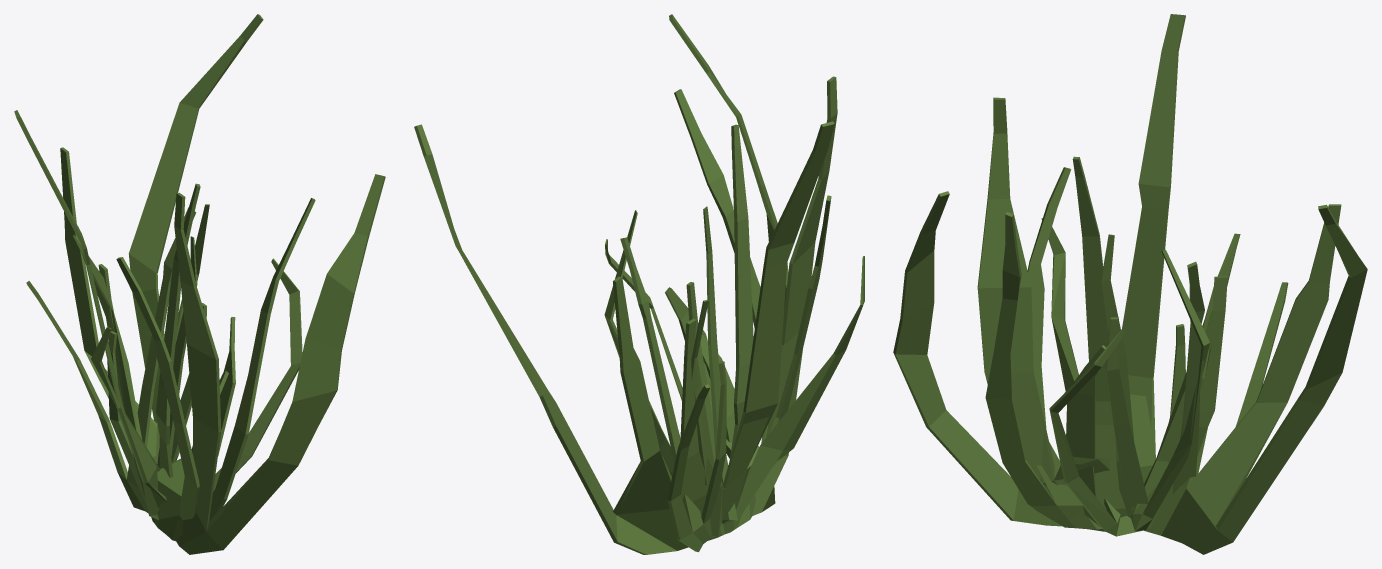
File: seaweed.fbx
3 views of the same model, side by side, from view 1: azimuth 30°, elevation 25°; view 2: azimuth 150°, elevation 25°; view 3: azimuth 270°, elevation 25° (orthographic). The views are drawn at different scales.
Visible parts, largest first — view 1: Seaweed.001; view 2: Seaweed.001; view 3: Seaweed.001.
Boxes of the visible parts, x1,y1,x2,y2 form: Seaweed.001: (14, 14, 385, 554); Seaweed.001: (414, 14, 864, 554); Seaweed.001: (893, 14, 1367, 554).
Bounding box in the file's own units: 211 × 274 × 257.
Materials: 1 (1 with a texture image).
